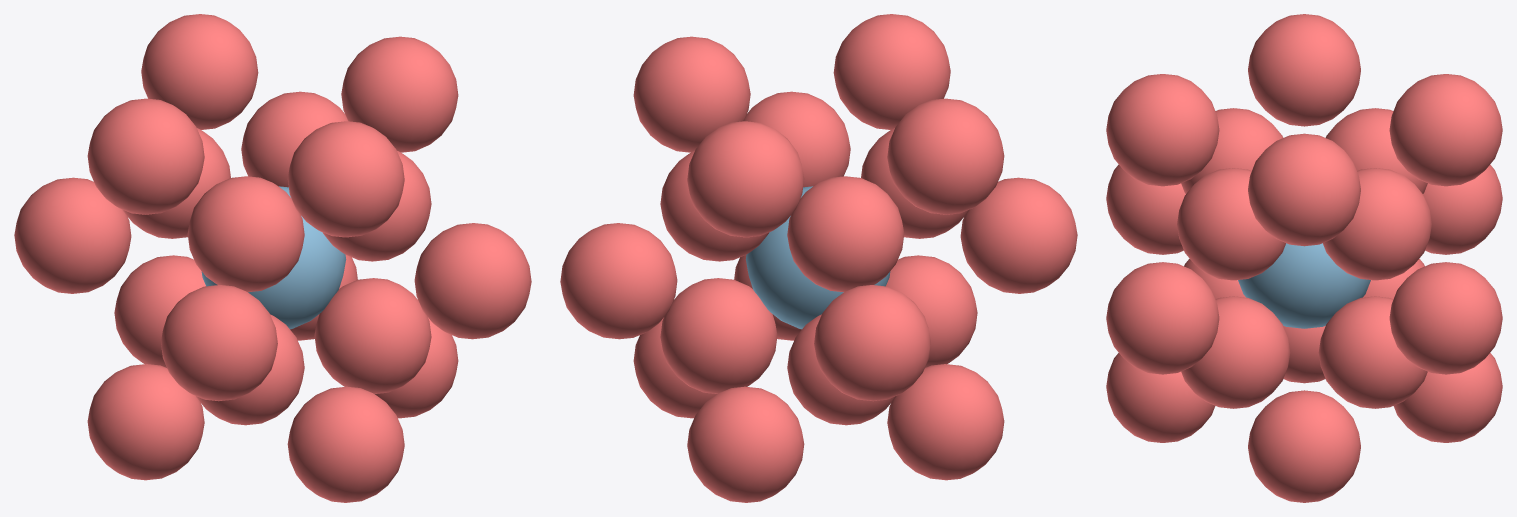
The model's file is sio2-crystal.glb.
3 renders of one model, left to right at view 1: azimuth 30°, elevation 25°; view 2: azimuth 150°, elevation 25°; view 3: azimuth 270°, elevation 25°, orthographic. The views are drawn at different scales.
Visible parts, largest first — view 1: O0_3, O2_3, O16_1, O0_1, O3_3, O4_1, O4_2, O3_2, O2_2, O0_2, O8_1, O4_0 (+7 smaller); view 2: O1_2, O2_3, O8_3, O8_1, O2_2, O2_1, O1_1, O3_2, O3_3, O0_2, O0_1, O3_1 (+7 smaller); view 3: O0_3, O8_3, O0_1, O8_1, O1_3, O2_3, O0_2, O0_0, O4_3, O1_1, O4_2, Si0 (+9 smaller).
Part boxes in pixels (x1,y1,x2,y2): O0_3: (414,223,531,339); O2_3: (87,98,204,214); O16_1: (287,386,404,502); O0_1: (287,121,404,237); O3_3: (161,285,277,401); O4_1: (187,176,304,292); O4_2: (314,278,431,393); O3_2: (87,364,204,480); O2_2: (14,177,131,293); O0_2: (341,36,458,152); O8_1: (141,14,258,129); O4_0: (114,255,205,367); O1_2: (687,386,804,502); O2_3: (887,98,1004,214); O8_3: (560,223,677,339); O8_1: (687,121,804,237); O2_2: (814,285,930,401); O2_1: (787,176,904,292); O1_1: (660,278,777,393); O3_2: (887,364,1004,480); O3_3: (960,177,1077,293); O0_2: (633,36,750,152); O0_1: (833,14,950,129); O3_1: (886,255,977,367); O0_3: (1106,262,1219,374); O8_3: (1389,262,1502,374); O0_1: (1106,74,1219,186); O8_1: (1389,74,1502,186); O1_3: (1248,390,1360,502); O2_3: (1248,14,1360,126); O0_2: (1248,133,1360,246); O0_0: (1177,168,1285,280); O4_3: (1323,168,1431,280); O1_1: (1318,296,1427,408); O4_2: (1181,296,1290,408); Si0: (1238,243,1370,328).
Bounding box in the file's own units: 1.4 × 1.4 × 1.4.
